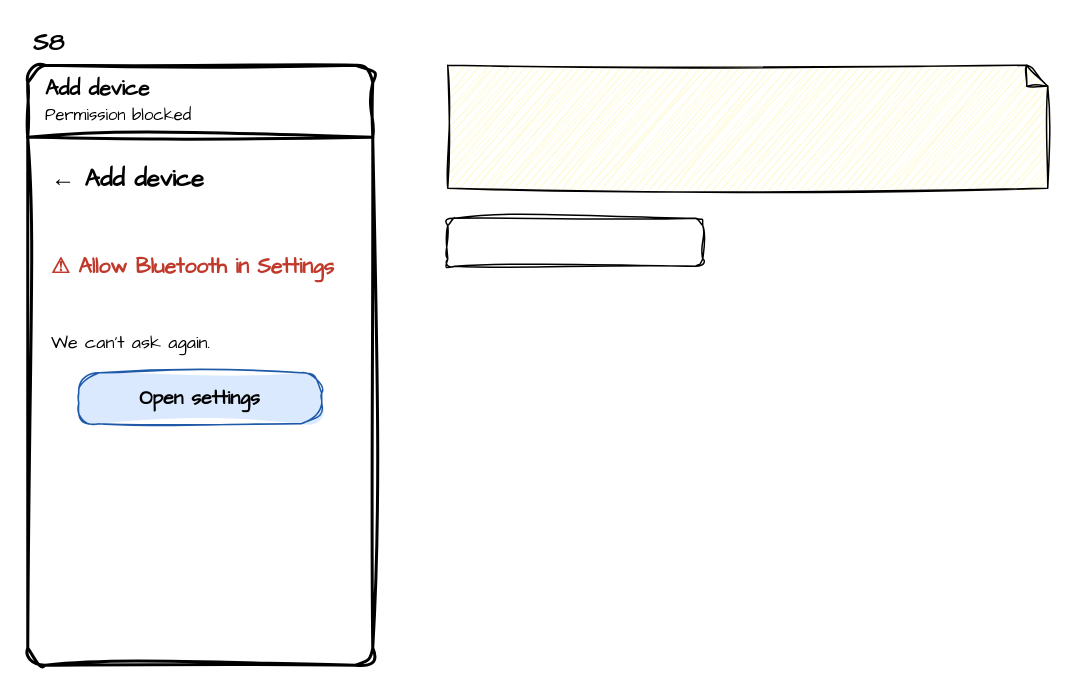
This 1074x692 diagram has some shape labels left out. The centre of each missing label's shape, as x and y in pixels:
"From S8 you can • allowed in Settings → S4 · Add device — Scanning" goes at (x=747, y=126).
"↩ Back to the overview" goes at (x=574, y=241).
